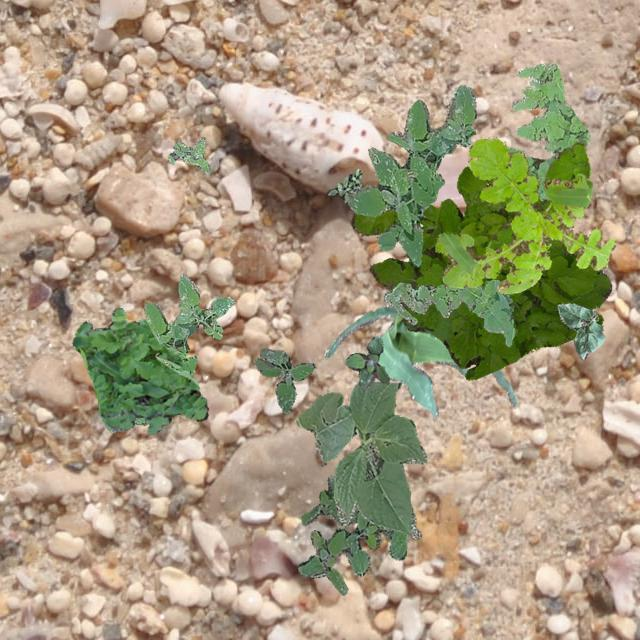crop: (324, 304, 516, 418), (296, 380, 426, 538), (556, 302, 604, 358)
weed: (350, 158, 610, 378), (434, 138, 616, 292), (344, 84, 474, 266), (72, 308, 208, 432), (296, 474, 406, 594), (486, 140, 590, 250), (506, 62, 588, 200), (142, 273, 234, 377), (384, 278, 514, 346), (252, 348, 314, 412), (344, 336, 388, 388), (167, 136, 210, 172), (326, 168, 360, 202), (104, 416, 148, 432)
